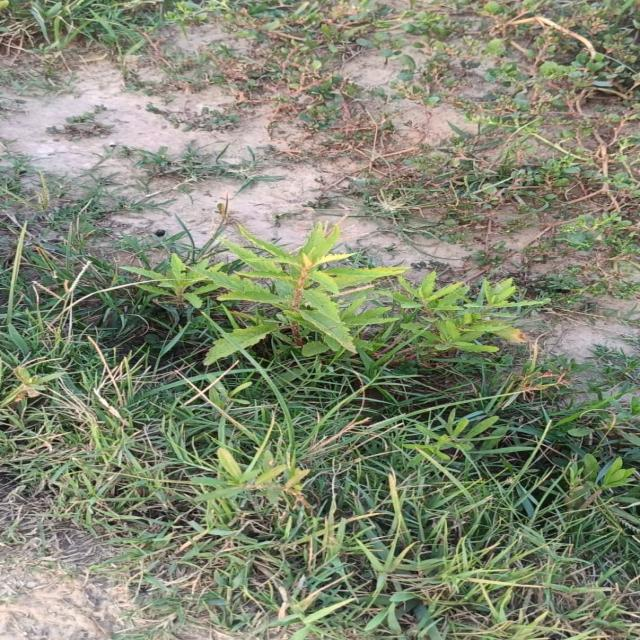weed: (123, 224, 407, 365), (382, 272, 544, 353)
